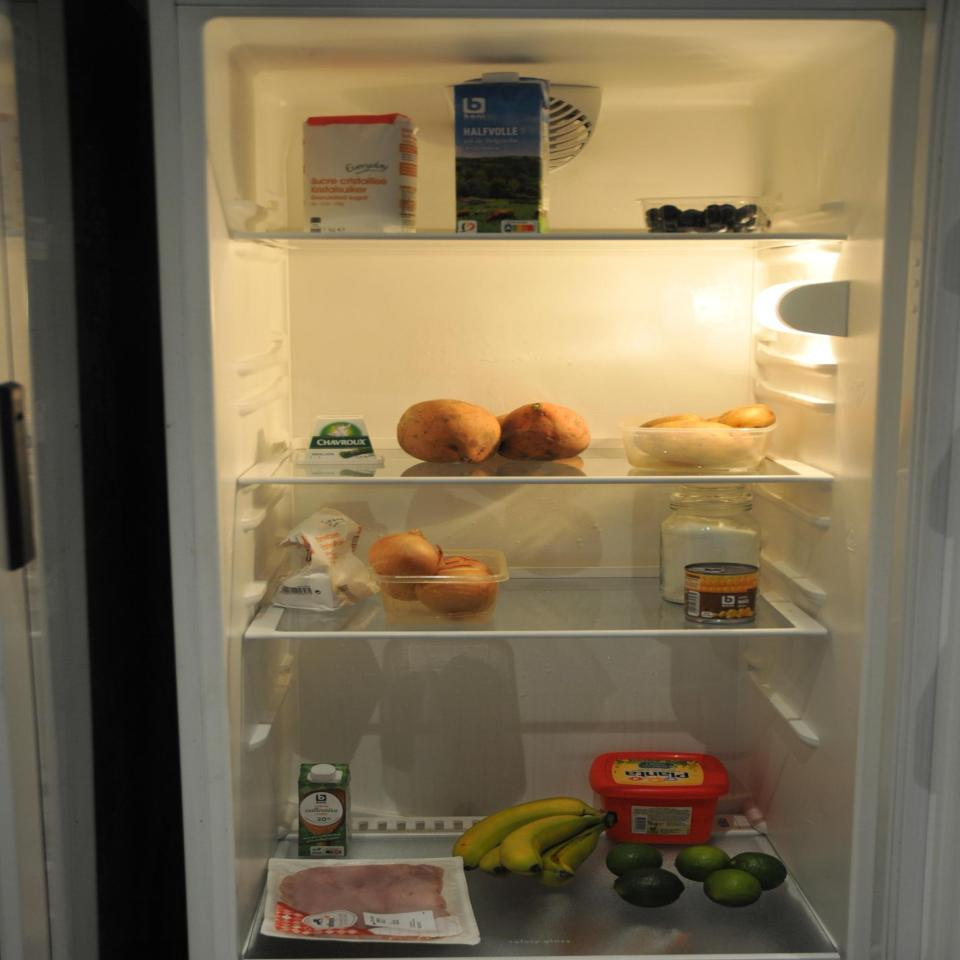Leche: (448, 70, 552, 239)
Mantequilla: (587, 750, 733, 846)
Plátano: (451, 796, 620, 888)
blueberries: (634, 195, 778, 234)
lime: (604, 842, 788, 908)
